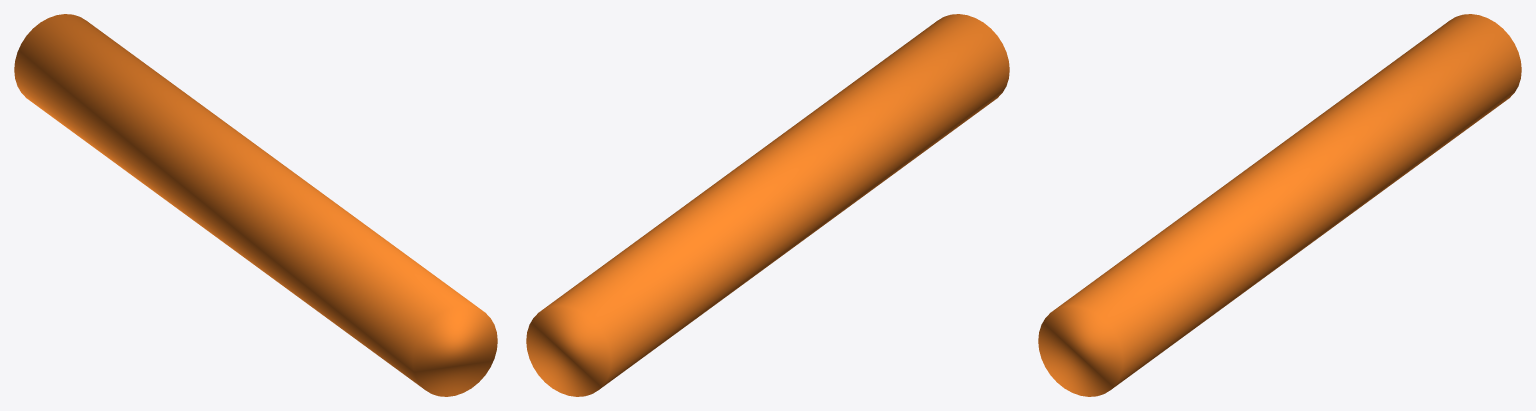
File: SEDAN_HV_Bus_Cable_Rear_Pos.glb
3 renders of one model, left to right at view 1: azimuth 30°, elevation 25°; view 2: azimuth 150°, elevation 25°; view 3: azimuth 330°, elevation 25°, orthographic.
Visible parts, largest first — view 1: SEDAN_HV_Bus_Cable_Rear_Pos; view 2: SEDAN_HV_Bus_Cable_Rear_Pos; view 3: SEDAN_HV_Bus_Cable_Rear_Pos.
Boxes of the visible parts, bbox=[...] form: SEDAN_HV_Bus_Cable_Rear_Pos: bbox=[14, 14, 497, 396]; SEDAN_HV_Bus_Cable_Rear_Pos: bbox=[526, 14, 1009, 396]; SEDAN_HV_Bus_Cable_Rear_Pos: bbox=[1038, 14, 1521, 396].
Size of the model in its own units: 0.032 by 0.032 by 0.26.
